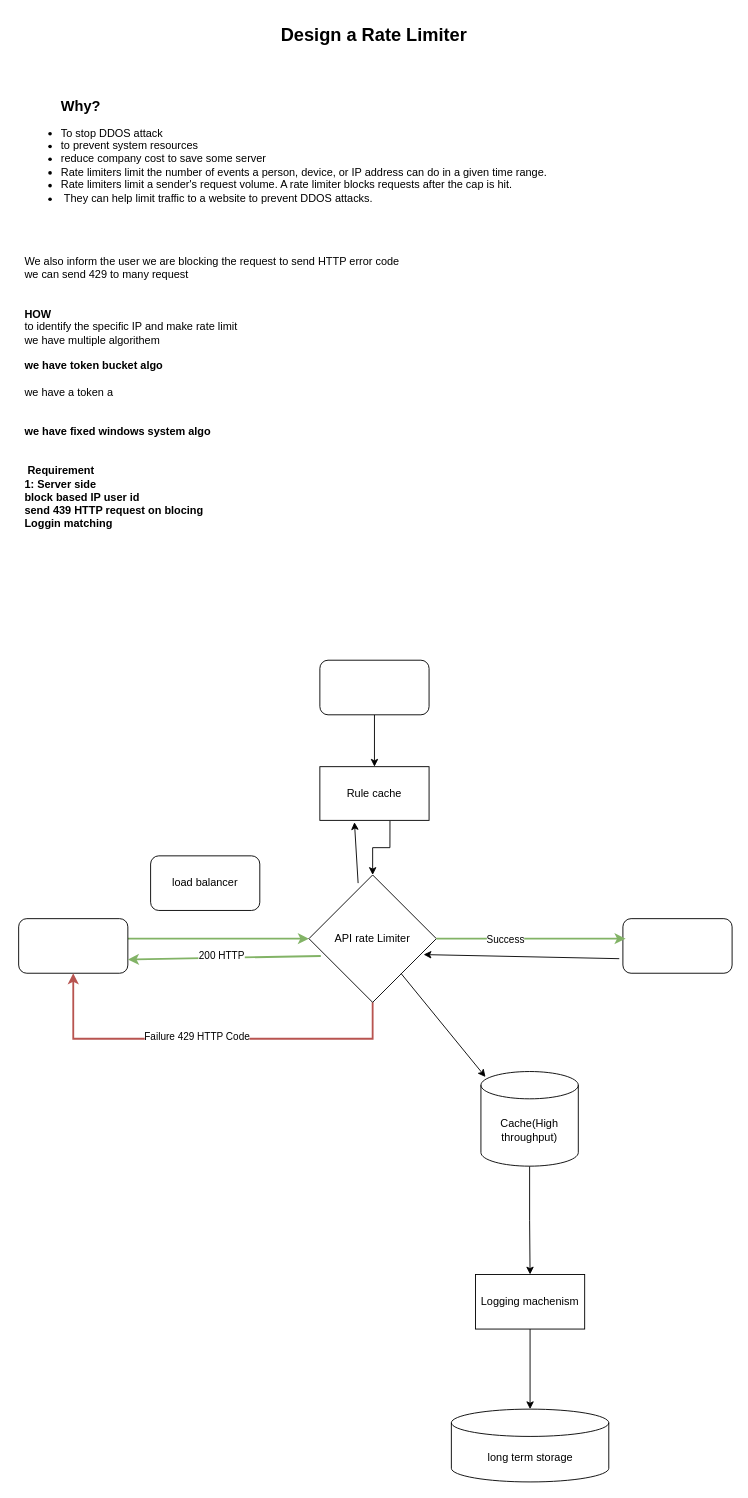
This 748x1498 diagram has some shape labels left out. The shapes that lost their labels are listed below. From the top down, each one's centre as x and y in pixels, then its label:
[374,687]: Rule Engine
[73,945]: Client(s)
[677,945]: APi/web server
